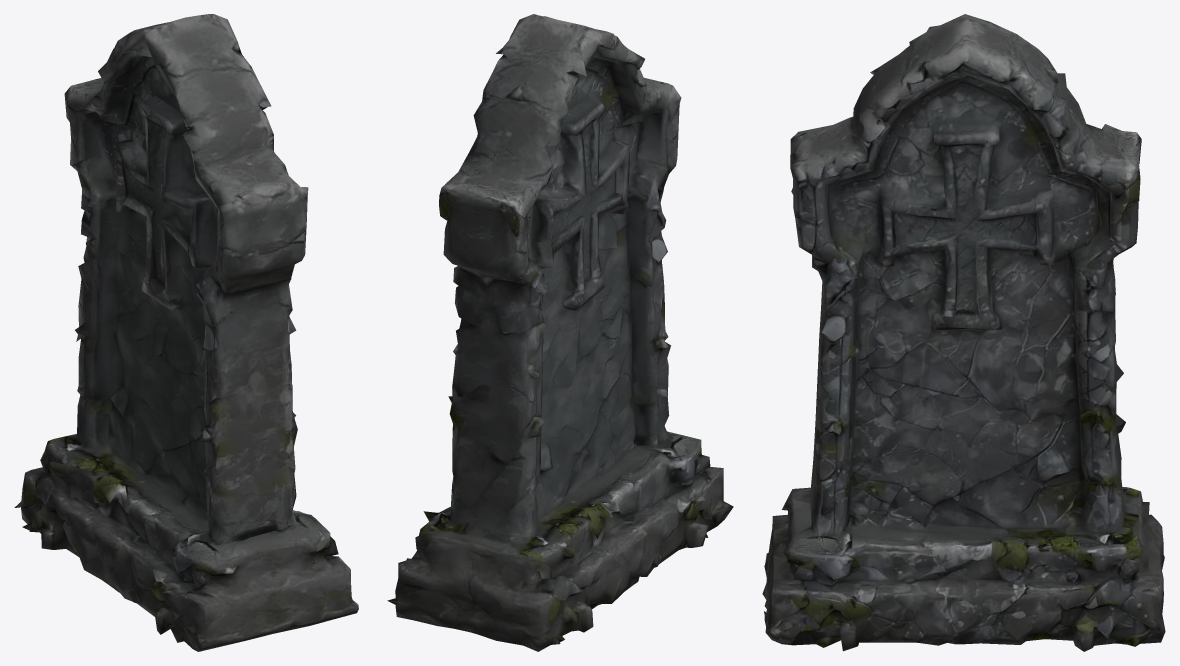
File: tombstone.glb
The picture shows the model from 3 angles, left to right: view 1: azimuth 30°, elevation 25°; view 2: azimuth 150°, elevation 25°; view 3: azimuth 270°, elevation 25°; orthographic projection. The views are drawn at different scales.
Parts seen in each view (by area): view 1: tripo_node_73842477-d812-4883-830e-f1adb11ea7ad; view 2: tripo_node_73842477-d812-4883-830e-f1adb11ea7ad; view 3: tripo_node_73842477-d812-4883-830e-f1adb11ea7ad.
Part boxes in pixels (x1=…): tripo_node_73842477-d812-4883-830e-f1adb11ea7ad: x1=14, y1=14, x2=358, y2=651; tripo_node_73842477-d812-4883-830e-f1adb11ea7ad: x1=387, y1=14, x2=733, y2=651; tripo_node_73842477-d812-4883-830e-f1adb11ea7ad: x1=762, y1=14, x2=1165, y2=651.
Size of the model in its own units: 0.3379 by 1 by 0.6272.
Materials: 1 (1 with a texture image).
